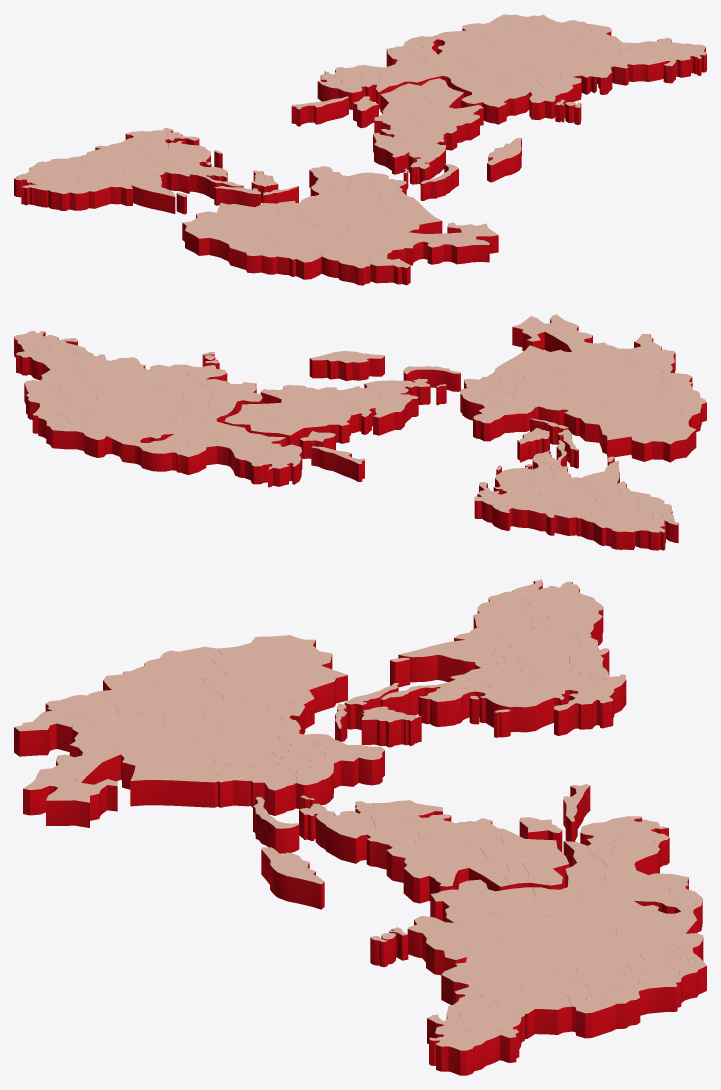
Rendered from Map.fbx.
3 views of the same model, one above another, from view 1: azimuth 30°, elevation 25°; view 2: azimuth 150°, elevation 25°; view 3: azimuth 270°, elevation 25° (orthographic). The views are drawn at different scales.
Parts seen in each view (by area): view 1: Territory 19, Territory 1, Territory 7, Territory 26, Territory 34, Territory 67, Territory 36, Territory 44, Territory 33, Territory 28, Territory 38, Territory 43 (+41 smaller); view 2: Territory 19, Territory 76, Territory 38, Territory 41, Territory 15, Territory 36, Territory 43, Territory 23, Territory 26, Territory 33, Territory 28, Territory 6 (+47 smaller); view 3: Territory 19, Territory 26, Territory 5, Territory 1, Territory 43, Territory 64, Territory 67, Territory 38, Territory 36, Territory 33, Territory 6, Territory 44 (+51 smaller).
Boxes of the visible parts, x1,y1,x2,y2 form: Territory 19: [182, 202, 296, 260]; Territory 1: [367, 232, 489, 265]; Territory 7: [228, 232, 321, 279]; Territory 26: [413, 90, 483, 150]; Territory 34: [454, 79, 531, 124]; Territory 67: [103, 170, 186, 214]; Territory 36: [477, 48, 560, 120]; Territory 44: [548, 49, 623, 94]; Territory 33: [376, 61, 508, 109]; Territory 28: [291, 96, 378, 128]; Territory 38: [427, 30, 491, 71]; Territory 43: [480, 25, 581, 92]; Territory 19: [579, 399, 696, 462]; Territory 76: [576, 512, 665, 550]; Territory 38: [106, 405, 208, 463]; Territory 41: [141, 431, 217, 474]; Territory 15: [473, 398, 543, 441]; Territory 36: [118, 366, 227, 417]; Territory 43: [80, 368, 161, 428]; Territory 23: [309, 351, 384, 380]; Territory 26: [241, 385, 344, 414]; Territory 33: [175, 392, 286, 446]; Territory 28: [299, 431, 364, 482]; Territory 6: [587, 365, 668, 400]; Territory 19: [200, 635, 347, 728]; Territory 26: [386, 836, 511, 903]; Territory 5: [122, 748, 227, 807]; Territory 1: [23, 721, 124, 815]; Territory 43: [466, 924, 680, 965]; Territory 64: [469, 667, 565, 732]; Territory 67: [390, 631, 530, 687]; Territory 38: [545, 887, 697, 939]; Territory 36: [414, 911, 601, 962]; Territory 33: [490, 841, 607, 922]; Territory 6: [104, 677, 222, 726]; Territory 44: [441, 958, 562, 1005].
Size of the model in its own units: 19.82 by 0.5023 by 12.32.
